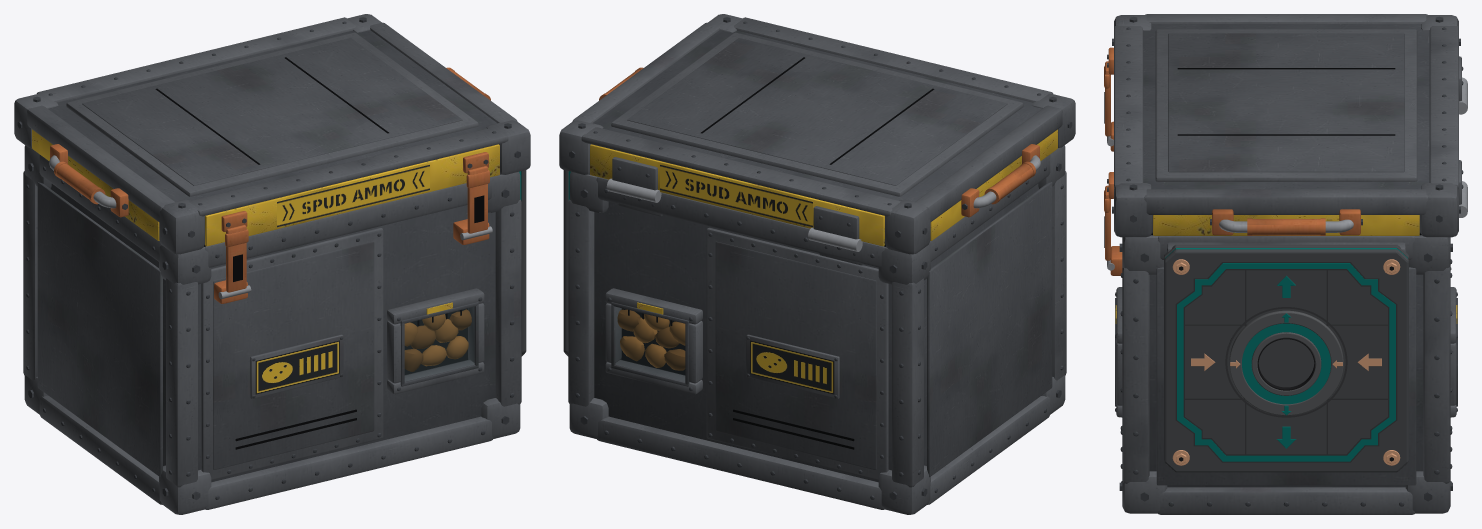
The model's file is potato_ammo_container.glb.
The picture shows the model from 3 angles, left to right: view 1: azimuth 30°, elevation 25°; view 2: azimuth 150°, elevation 25°; view 3: azimuth 270°, elevation 25°; orthographic projection. The views are drawn at different scales.
Visible parts, largest first — view 1: Housing.002, Glass.002, Potatoes, IOPort.002; view 2: Housing.002, Glass.002, Potatoes, IOPort.002; view 3: Housing.002, IOPort.002.
Part boxes in pixels (x1,y1,x2,y2): Housing.002: (14,14,530,514); Glass.002: (405,307,474,381); Potatoes: (404,309,471,371); IOPort.002: (519,170,526,356); Housing.002: (559,14,1075,514); Glass.002: (615,307,684,381); Potatoes: (617,309,685,370); IOPort.002: (563,170,570,356); Housing.002: (1104,14,1467,514); IOPort.002: (1164,244,1408,472).
Bounding box in the file's own units: 0.997 × 0.734 × 0.742.
21 materials, 9 textured.
